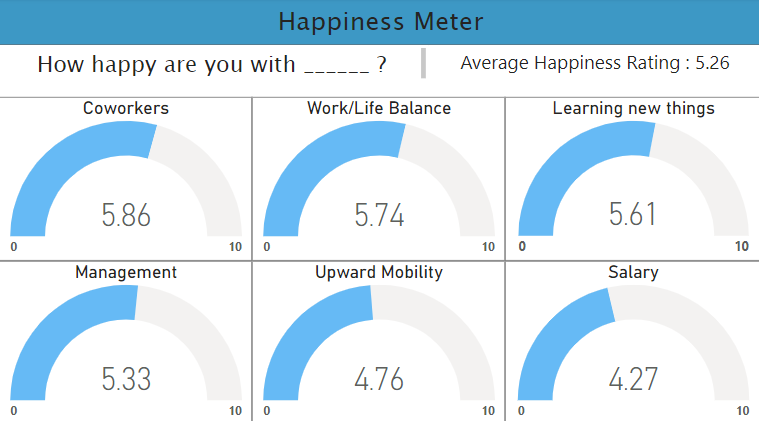

The dashboard page shown, as its layout file describes it:
{"tool":"powerbi","page":{"name":"Happiness","canvas":[1280,720],"ordinal":1},"visuals":[{"type":"textbox","box":[0,0,1280,79],"z":0},{"type":"gauge","title":"Coworkers","fields":{"Y":["Avg(Data Professional Survey.Q6 - How Happy are you in your Current Position with the following? (Coworkers))"],"MinValue":["Min(Data Professional Survey.Q6 - How Happy are you in your Current Position with the following? (Coworkers))"],"MaxValue":["Max(Data Professional Survey.Q6 - How Happy are you in your Current Position with the following? (Coworkers))"]},"box":[0,166.3,425,275.5],"z":1000},{"type":"gauge","title":"Learning new things","fields":{"Y":["Avg(Data Professional Survey.Q6 - How Happy are you in your Current Position with the following? (Learning New Things))"],"MinValue":["Min(Data Professional Survey.Q6 - How Happy are you in your Current Position with the following? (Learning New Things))"],"MaxValue":["Max(Data Professional Survey.Q6 - How Happy are you in your Current Position with the following? (Learning New Things))"]},"box":[850,166.3,430,275.5],"z":2000},{"type":"gauge","title":"Management","fields":{"Y":["Avg(Data Professional Survey.Q6 - How Happy are you in your Current Position with the following? (Management))"],"MinValue":["Min(Data Professional Survey.Q6 - How Happy are you in your Current Position with the following? (Management))"],"MaxValue":["Max(Data Professional Survey.Q6 - How Happy are you in your Current Position with the following? (Management))"]},"box":[0,441.8,425,275.5],"z":3000},{"type":"gauge","title":"Salary","fields":{"Y":["Avg(Data Professional Survey.Q6 - How Happy are you in your Current Position with the following? (Salary))"],"MinValue":["Min(Data Professional Survey.Q6 - How Happy are you in your Current Position with the following? (Salary))"],"MaxValue":["Max(Data Professional Survey.Q6 - How Happy are you in your Current Position with the following? (Salary))"]},"box":[850,441.8,430,275.5],"z":4000},{"type":"gauge","title":"Upward Mobility","fields":{"Y":["Avg(Data Professional Survey.Q6 - How Happy are you in your Current Position with the following? (Upward Mobility))"],"MinValue":["Min(Data Professional Survey.Q6 - How Happy are you in your Current Position with the following? (Upward Mobility))"],"MaxValue":["Max(Data Professional Survey.Q6 - How Happy are you in your Current Position with the following? (Upward Mobility))"]},"box":[425,441.8,425,275.5],"z":5000},{"type":"gauge","title":"Work/Life Balance","fields":{"Y":["Avg(Data Professional Survey.Q6 - How Happy are you in your Current Position with the following? (Work/Life Balance))"],"MinValue":["Min(Data Professional Survey.Q6 - How Happy are you in your Current Position with the following? (Work/Life Balance))"],"MaxValue":["Max(Data Professional Survey.Q6 - How Happy are you in your Current Position with the following? (Work/Life Balance))"]},"box":[425,166.3,425,275.5],"z":6000},{"type":"textbox","box":[0,79,722.3,63.8],"z":7000},{"type":"textbox","box":[722.3,79,557.7,63.8],"z":8000}]}

Visuals, with their boxes in screenshot pixels (x1, y1, x2, y2), scaled from the page's 1280x720 canvas onto the 759x421 screenshot:
textbox: bbox=(0, 0, 758, 46)
"Coworkers" gauge: bbox=(0, 97, 252, 258)
"Learning new things" gauge: bbox=(504, 97, 758, 258)
"Management" gauge: bbox=(0, 258, 252, 419)
"Salary" gauge: bbox=(504, 258, 758, 419)
"Upward Mobility" gauge: bbox=(252, 258, 504, 419)
"Work/Life Balance" gauge: bbox=(252, 97, 504, 258)
textbox: bbox=(0, 46, 428, 83)
textbox: bbox=(428, 46, 758, 83)
